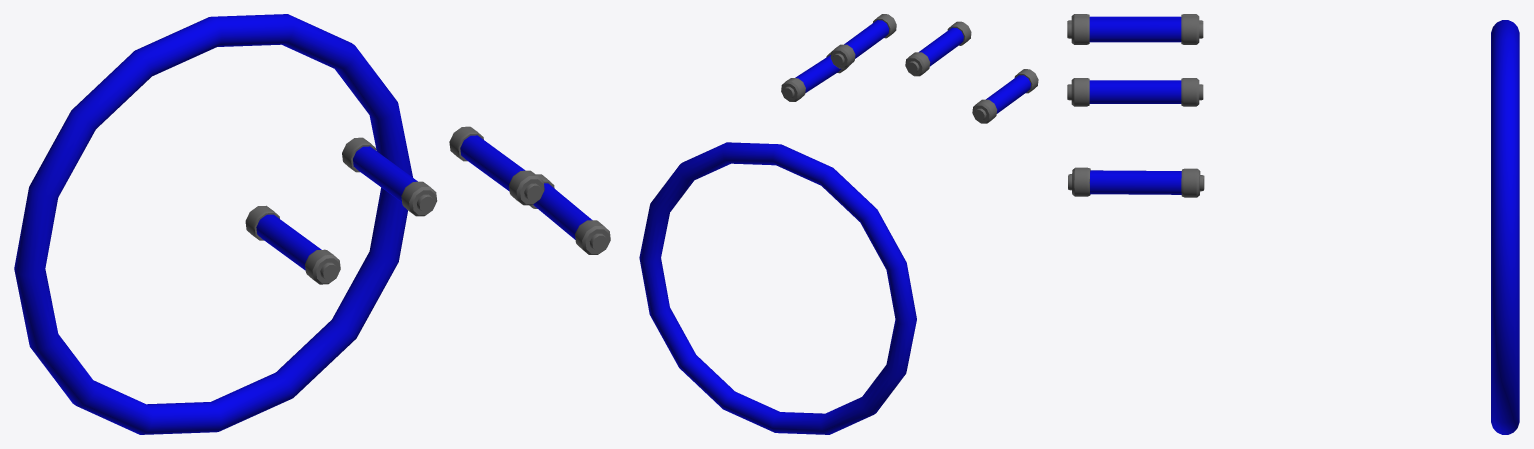
The model's file is SM_Generator_LightsFixed.fbx.
The picture shows the model from 3 angles, left to right: view 1: azimuth 30°, elevation 25°; view 2: azimuth 150°, elevation 25°; view 3: azimuth 270°, elevation 25°; orthographic projection. The views are drawn at different scales.
Visible parts, largest first — view 1: LightsFixed; view 2: LightsFixed; view 3: LightsFixed.
Boxes of the visible parts, box(x1,y1,x2,y2) form: LightsFixed: box(14, 14, 610, 434); LightsFixed: box(639, 14, 1038, 434); LightsFixed: box(1067, 14, 1519, 434).
Bounding box in the file's own units: 318 × 346 × 326.
